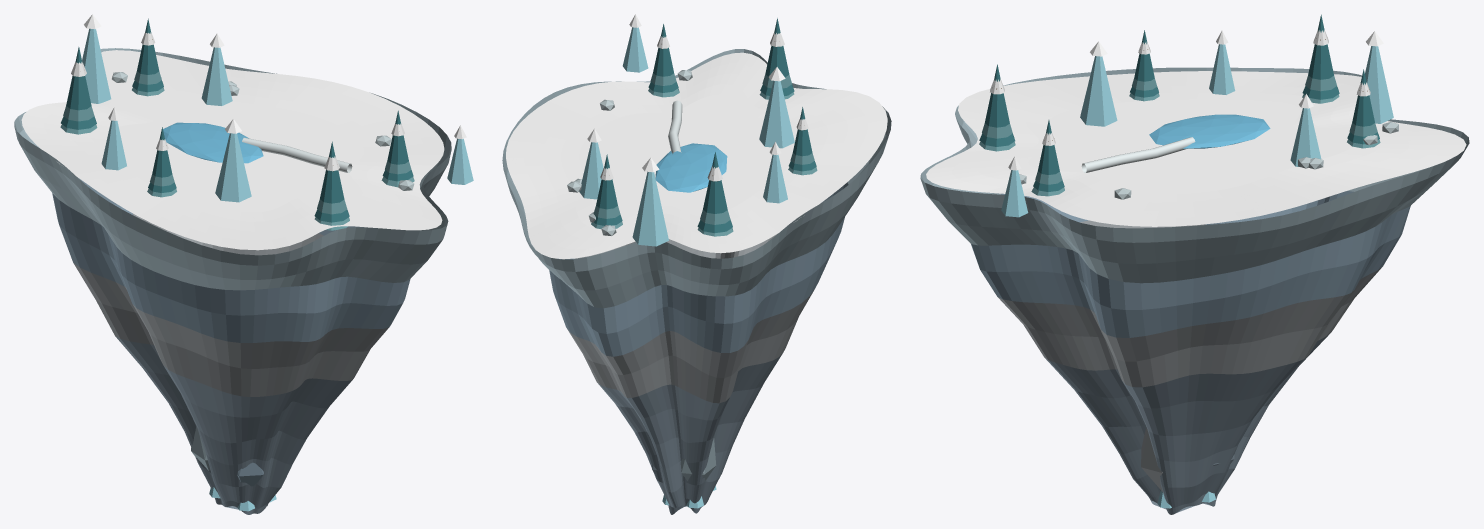
Rendered from FI-035-Rimewatch-Peaks.glb.
3 renders of one model, left to right at view 1: azimuth 30°, elevation 25°; view 2: azimuth 150°, elevation 25°; view 3: azimuth 270°, elevation 25°, orthographic. The views are drawn at different scales.
Parts seen in each view (by area): view 1: FI-035_StratifiedFloatingCliff, FI-035_BuildableTop, FrozenTarn, BlueIceSpire_00, BlueIceSpire_02, BlueIceSpire_01, SnowSaddleTrail, BlueIceSpire_04, BlueIceSpire_03, Frostfir_02_Bough_03, Frostfir_00_Bough_03, Frostfir_03_Bough_03 (+1 smaller); view 2: FI-035_StratifiedFloatingCliff, FI-035_BuildableTop, FrozenTarn, BlueIceSpire_02, BlueIceSpire_00, BlueIceSpire_01, BlueIceSpire_04, BlueIceSpire_03, Frostfir_02_Bough_03, Frostfir_00_Bough_03, Frostfir_03_Bough_03, SnowSaddleTrail (+2 smaller); view 3: FI-035_StratifiedFloatingCliff, FI-035_BuildableTop, FrozenTarn, BlueIceSpire_00, BlueIceSpire_02, SnowSaddleTrail, BlueIceSpire_01, BlueIceSpire_04, BlueIceSpire_03, Frostfir_02_Bough_03, Frostfir_00_Bough_03, FI-035_GlacialRib_02 (+1 smaller).
Part boxes in pixels (box(x1,y1,x2,y2)): FI-035_StratifiedFloatingCliff: box(14, 48, 451, 514); FI-035_BuildableTop: box(21, 50, 444, 250); FrozenTarn: box(163, 122, 263, 163); BlueIceSpire_00: box(215, 133, 251, 202); BlueIceSpire_02: box(82, 28, 111, 103); BlueIceSpire_01: box(201, 47, 232, 105); SnowSaddleTrail: box(242, 137, 352, 172); BlueIceSpire_04: box(101, 120, 126, 170); BlueIceSpire_03: box(447, 138, 473, 184); Frostfir_02_Bough_03: box(66, 47, 91, 110); Frostfir_00_Bough_03: box(320, 141, 344, 203); Frostfir_03_Bough_03: box(137, 18, 159, 74); FI-035_StratifiedFloatingCliff: box(502, 49, 891, 514); FI-035_BuildableTop: box(506, 52, 887, 259); FrozenTarn: box(655, 143, 727, 192); BlueIceSpire_02: box(632, 171, 668, 246); BlueIceSpire_00: box(759, 81, 794, 148); BlueIceSpire_01: box(579, 142, 603, 199); BlueIceSpire_04: box(763, 154, 787, 203); BlueIceSpire_03: box(622, 27, 648, 72); Frostfir_02_Bough_03: box(703, 152, 727, 213); Frostfir_00_Bough_03: box(765, 18, 789, 77); Frostfir_03_Bough_03: box(596, 154, 617, 209); SnowSaddleTrail: box(668, 100, 682, 153); FI-035_StratifiedFloatingCliff: box(920, 67, 1469, 514); FI-035_BuildableTop: box(926, 71, 1466, 226); FrozenTarn: box(1149, 114, 1270, 148); BlueIceSpire_00: box(1080, 56, 1117, 126); BlueIceSpire_02: box(1365, 46, 1393, 123); SnowSaddleTrail: box(1081, 137, 1195, 172); BlueIceSpire_01: box(1290, 108, 1321, 166); BlueIceSpire_04: box(1209, 44, 1235, 94); BlueIceSpire_03: box(1001, 170, 1028, 217); Frostfir_02_Bough_03: box(1308, 14, 1333, 79); Frostfir_00_Bough_03: box(985, 64, 1009, 127); FI-035_GlacialRib_02: box(1141, 428, 1162, 491).
Bounding box in the file's own units: 9.38 × 12.09 × 13.47.
